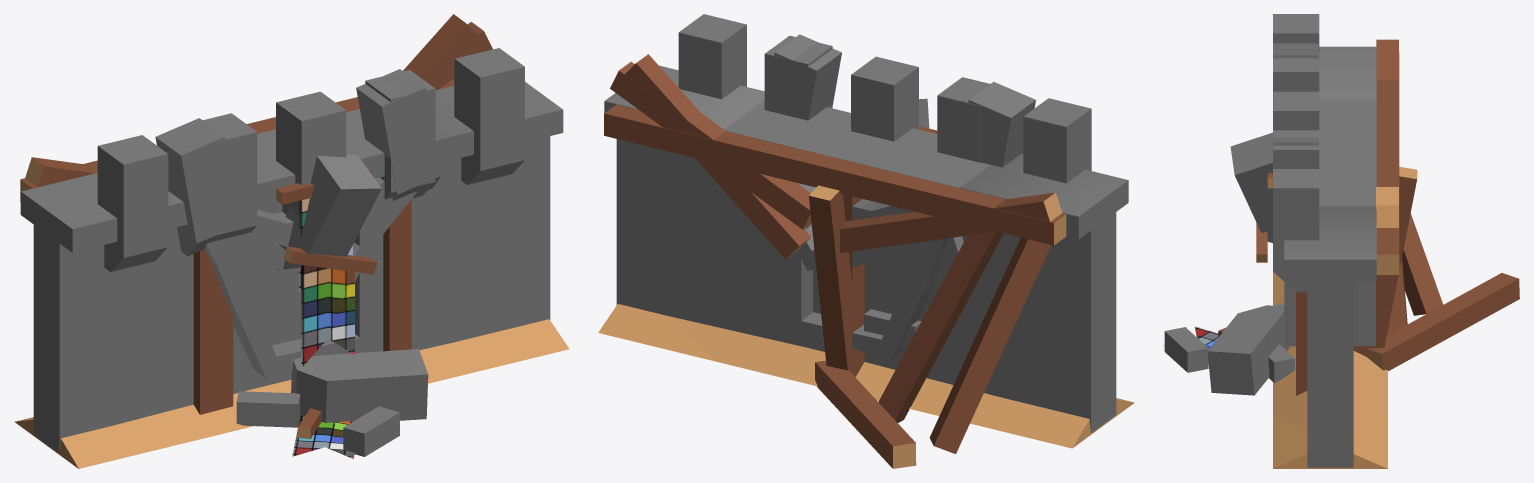
The model's file is Stone Wall 1.fbx.
3 views of the same model, side by side, from view 1: azimuth 30°, elevation 25°; view 2: azimuth 150°, elevation 25°; view 3: azimuth 270°, elevation 25° (orthographic). The views are drawn at different scales.
Visible parts, largest first — view 1: Destruction_phase_2, Destruction_phase_3, Wall, Destruction_phase_1, Flag_1, Flag_x (×2); view 2: Wall, Destruction_phase_1, Destruction_phase_2, Destruction_phase_3; view 3: Destruction_phase_2, Wall, Destruction_phase_1, Destruction_phase_3.
Boxes of the visible parts, x1,y1,x2,y2 form: Destruction_phase_2: (15, 14, 569, 468); Destruction_phase_3: (27, 23, 563, 453); Wall: (15, 59, 466, 468); Destruction_phase_1: (16, 21, 492, 421); Flag_1: (301, 265, 354, 367); Flag_x (×2): (292, 416, 354, 458); Wall: (598, 32, 1133, 448); Destruction_phase_1: (598, 32, 1093, 447); Destruction_phase_2: (605, 14, 1134, 468); Destruction_phase_3: (626, 25, 1128, 467); Destruction_phase_2: (1164, 14, 1519, 468); Wall: (1267, 14, 1399, 468); Destruction_phase_1: (1230, 14, 1417, 468); Destruction_phase_3: (1164, 33, 1519, 468).
Bounding box in the file's own units: 2.2 × 1.33 × 1.56.
Materials: 1 (1 with a texture image).
